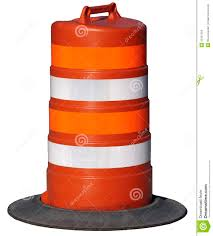barrel: (43, 10, 155, 202)
